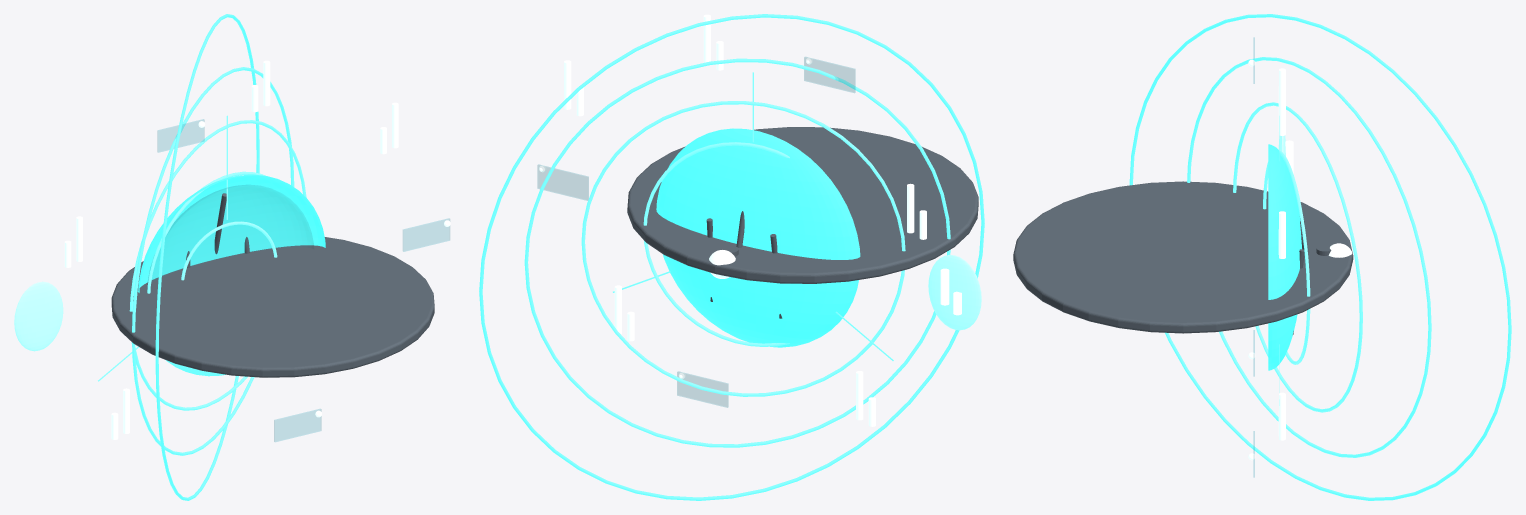
Rendered from solution-radar.glb.
3 views of the same model, side by side, from view 1: azimuth 30°, elevation 25°; view 2: azimuth 150°, elevation 25°; view 3: azimuth 270°, elevation 25° (orthographic). The views are drawn at different scales.
Parts seen in each view (by area): view 1: Platform, RadarDish, DishInner, ScanRing_4, TrustShield, ScanRing_3, ScanRing_2, RespondedCard_2, RespondedCard_0, RespondedCard_1, ScanRing_1, ScanRing_0; view 2: RadarDish, Platform, ScanRing_4, ScanRing_3, ScanRing_2, TrustShield, ScanRing_1, RespondedCard_0, RespondedCard_1, RespondedCard_2; view 3: Platform, RadarDish, ScanRing_4, ScanRing_3, ScanRing_2, ScanRing_1.
Part boxes in pixels (x1,y1,x2,y2): Platform: [111, 237, 434, 377]; RadarDish: [138, 174, 325, 376]; DishInner: [147, 185, 313, 284]; ScanRing_4: [155, 14, 259, 500]; TrustShield: [14, 281, 63, 351]; ScanRing_3: [132, 67, 294, 455]; ScanRing_2: [129, 120, 306, 410]; RespondedCard_2: [274, 409, 321, 441]; RespondedCard_0: [403, 218, 449, 251]; RespondedCard_1: [157, 119, 204, 152]; ScanRing_1: [147, 171, 264, 293]; ScanRing_0: [181, 221, 277, 280]; RadarDish: [656, 128, 860, 347]; Platform: [627, 127, 978, 283]; ScanRing_4: [479, 14, 984, 500]; ScanRing_3: [524, 58, 950, 447]; ScanRing_2: [581, 101, 905, 396]; TrustShield: [928, 254, 981, 330]; ScanRing_1: [643, 142, 789, 346]; RespondedCard_0: [537, 164, 588, 200]; RespondedCard_1: [804, 57, 855, 92]; RespondedCard_2: [677, 371, 728, 407]; Platform: [1013, 181, 1353, 333]; RadarDish: [1268, 144, 1301, 370]; ScanRing_4: [1129, 14, 1511, 500]; ScanRing_3: [1187, 57, 1431, 457]; ScanRing_2: [1233, 102, 1362, 412]; ScanRing_1: [1263, 150, 1310, 364].
Bounding box in the file's own units: 3.61 × 3.62 × 3.52.
